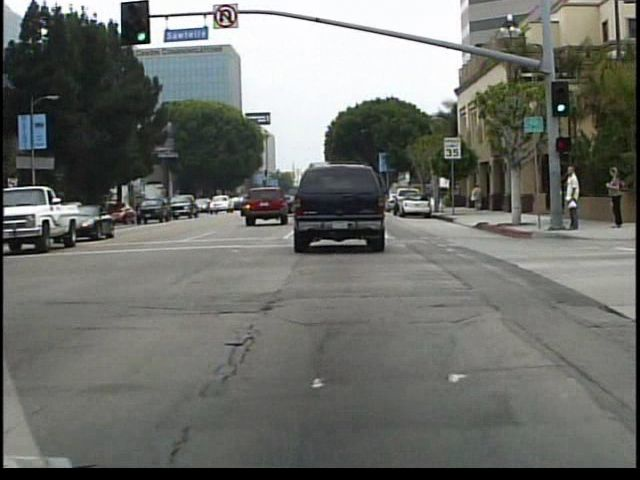person: (558, 160, 580, 238), (605, 162, 623, 230), (470, 181, 487, 218), (427, 185, 440, 215)
